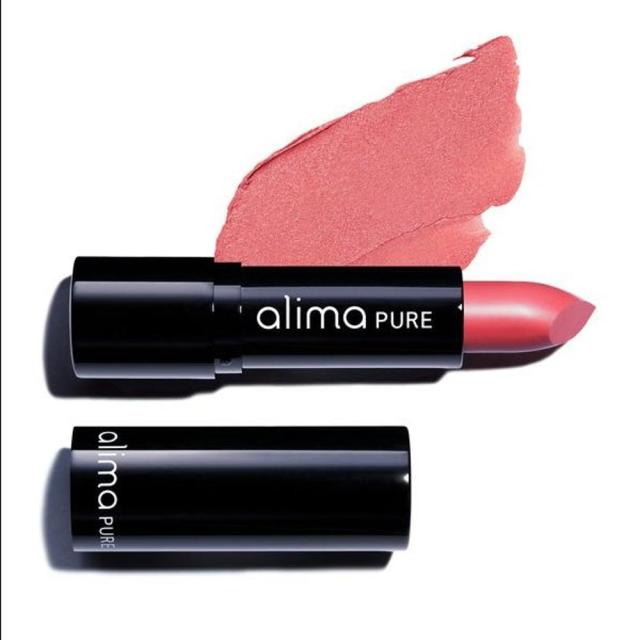lipstick: (50, 244, 613, 405)
